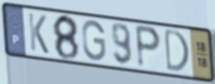8: (51, 13, 81, 62)
9: (110, 21, 134, 67)
D: (164, 27, 191, 74)
G: (81, 19, 108, 63)
K: (27, 11, 51, 56)
P: (134, 23, 163, 71)
